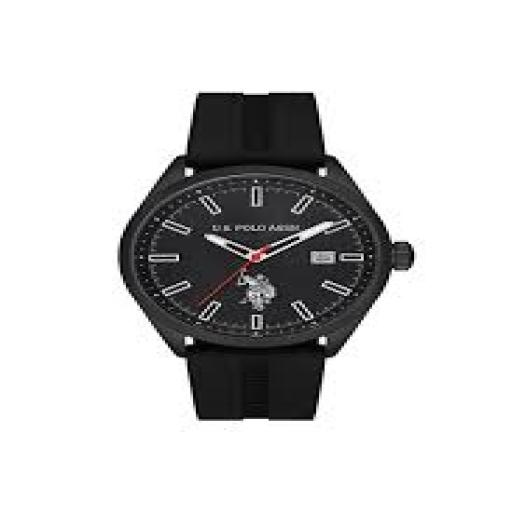KolSaati: (115, 58, 414, 440)
